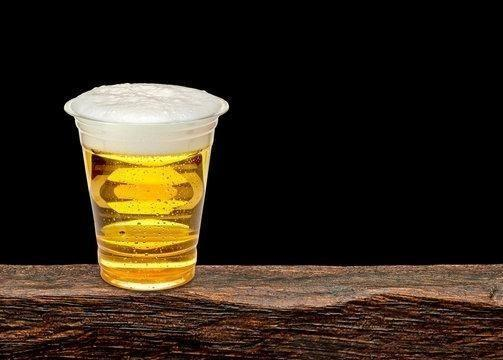cup-disposable: (63, 79, 230, 293)
